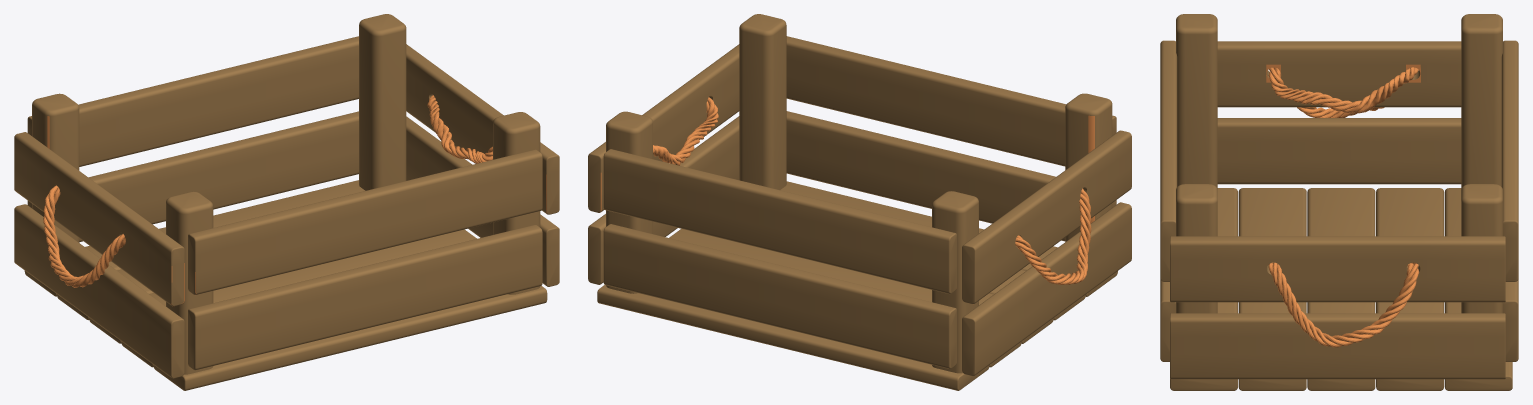
Rendered from caixa.fbx.
3 renders of one model, left to right at view 1: azimuth 30°, elevation 25°; view 2: azimuth 150°, elevation 25°; view 3: azimuth 270°, elevation 25°, orthographic. The views are drawn at different scales.
Visible parts, largest first — view 1: caixa; view 2: caixa; view 3: caixa.
Part boxes in pixels (left/top/right/bottom): caixa: left=14, top=14, right=559, bottom=390; caixa: left=588, top=14, right=1131, bottom=390; caixa: left=1160, top=14, right=1518, bottom=390.
Bounding box in the file's own units: 88.61 × 33.7 × 57.44.
